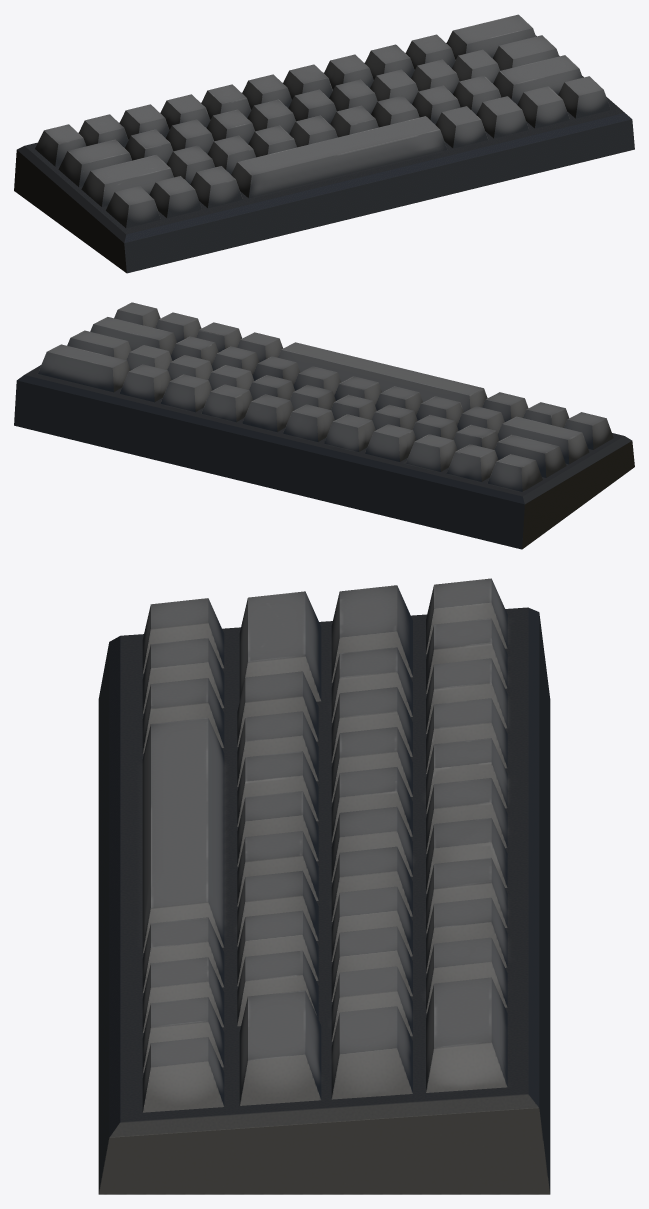
The model's file is KeyBoard_001.fbx.
The picture shows the model from 3 angles, top to bottom: view 1: azimuth 30°, elevation 25°; view 2: azimuth 150°, elevation 25°; view 3: azimuth 270°, elevation 25°; orthographic projection. The views are drawn at different scales.
Parts seen in each view (by area): view 1: Keyboard_001; view 2: Keyboard_001; view 3: Keyboard_001.
Boxes of the visible parts, <box> form: Keyboard_001: <box>14,14,634,273</box>; Keyboard_001: <box>14,302,634,549</box>; Keyboard_001: <box>98,578,550,1194</box>.
Size of the model in its own units: 40.18 by 5.1 by 15.46.
1 material, 1 textured.
